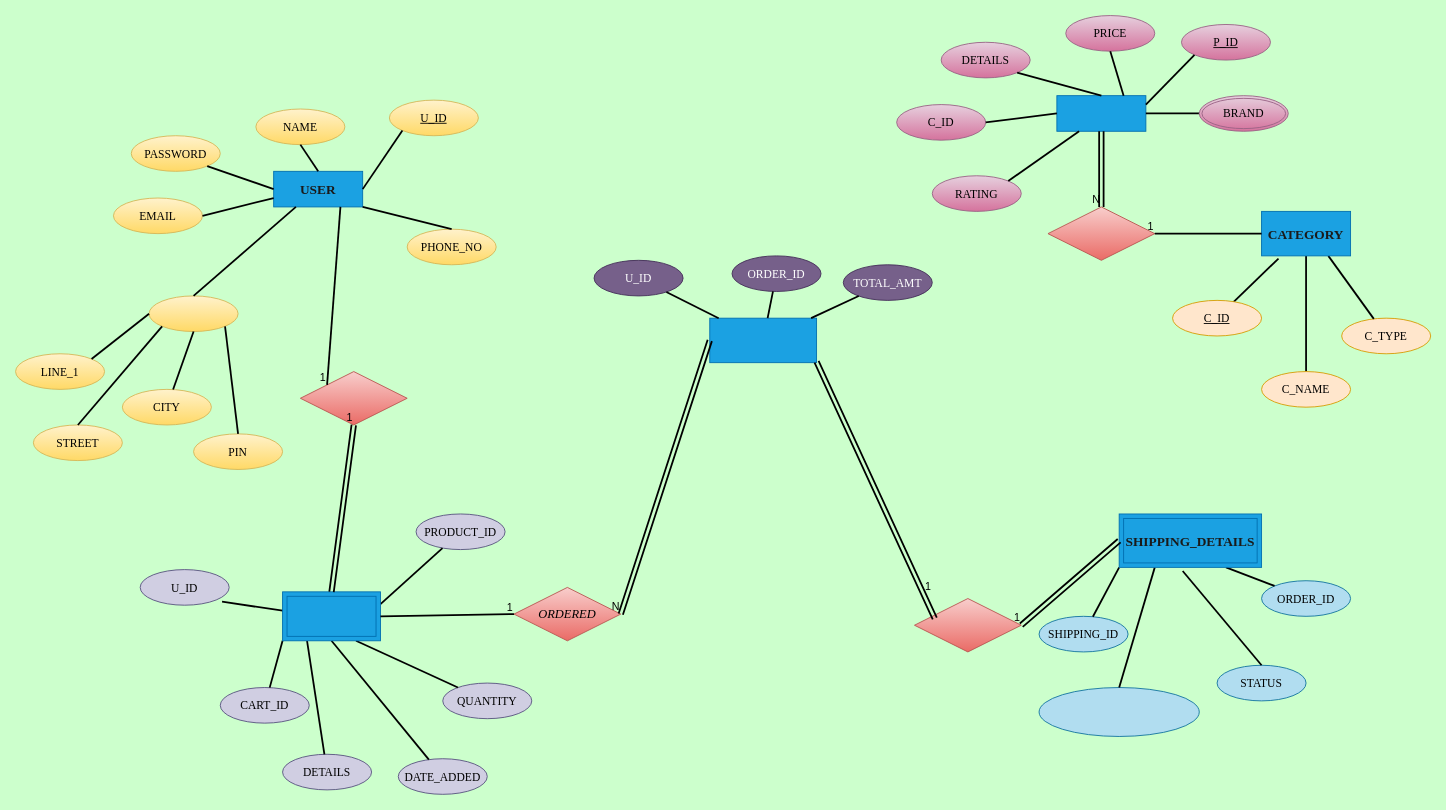
Image size: 1446x810. Some labels were removed from this diagram. The shapes that lost their labels are listed below. From the top down, each one's centre as x and y in pixels, then its label:
the point at 1101,113: PRODUCTS
the point at 1101,233: BELONGS TO
the point at 193,313: ADDRESS
the point at 763,340: ORDER
the point at 353,398: ADDED
the point at 331,616: CART
the point at 967,625: ORDER_PLACED
the point at 1118,711: ESTIMATED_DELIVERY
